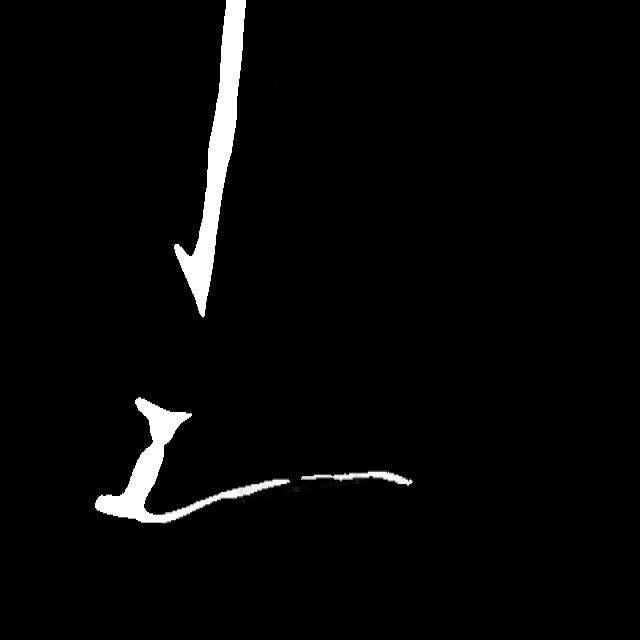sup: (277, 470, 313, 490)
